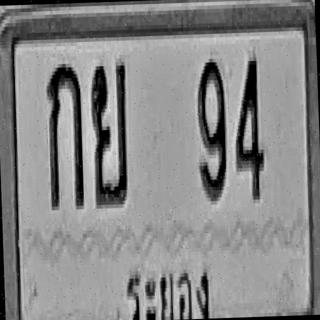A01: (45, 59, 84, 210)
A34: (90, 58, 130, 205)
N04: (232, 54, 266, 200)
N09: (196, 56, 228, 200)
P53: (120, 250, 214, 320)
